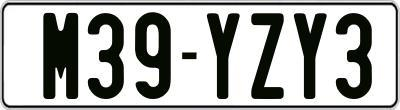3: (336, 10, 377, 102), (85, 10, 123, 102)
9: (133, 9, 170, 97)
M: (43, 10, 81, 97)
Y: (204, 13, 243, 103), (292, 11, 331, 99)
Z: (249, 13, 285, 101)
